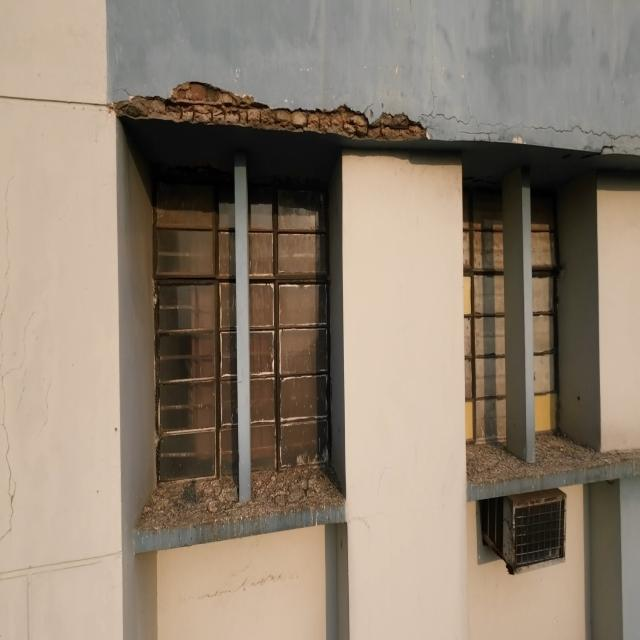crack: (418, 110, 640, 153), (0, 162, 24, 540)
spalling: (113, 82, 429, 141)
